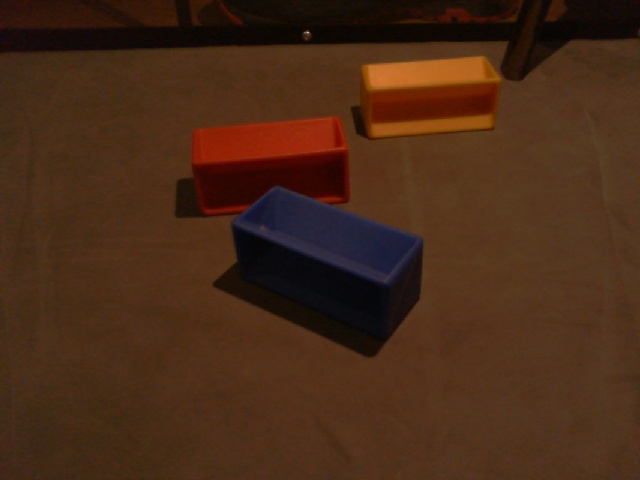BlueSample: (228, 184, 425, 345)
RedSample: (188, 114, 351, 215)
YellowSample: (354, 53, 504, 145)
